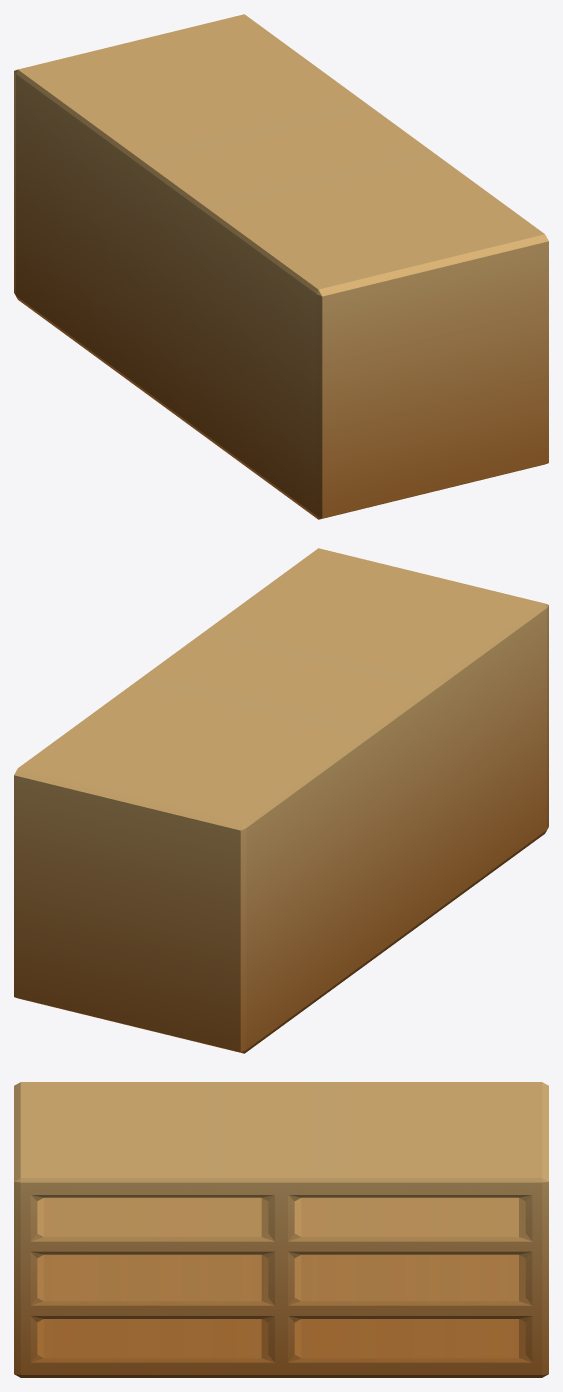
The model's file is Dresser.fbx.
3 views of the same model, one above another, from view 1: azimuth 30°, elevation 25°; view 2: azimuth 150°, elevation 25°; view 3: azimuth 270°, elevation 25° (orthographic). The views are drawn at different scales.
Visible parts, largest first — view 1: Dresser; view 2: Dresser; view 3: Dresser.
Boxes of the visible parts, x1,y1,x2,y2 form: Dresser: (14,14,548,519); Dresser: (14,548,548,1053); Dresser: (14,1082,548,1377).
Size of the model in its own units: 143 by 137 by 332.
1 material, 1 textured.
